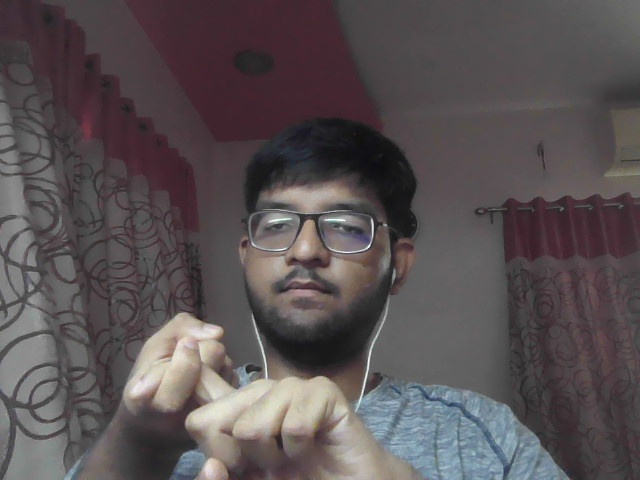મિત્ર: (95, 309, 444, 480)
